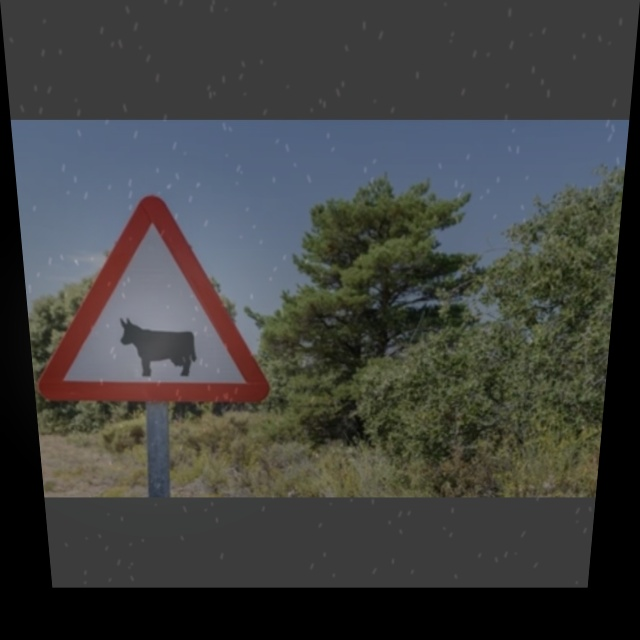Cattle: (53, 205, 258, 403)
